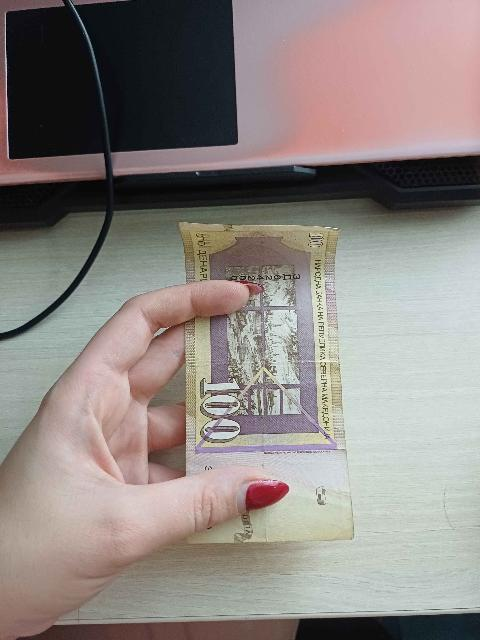note: (181, 224, 353, 543)
